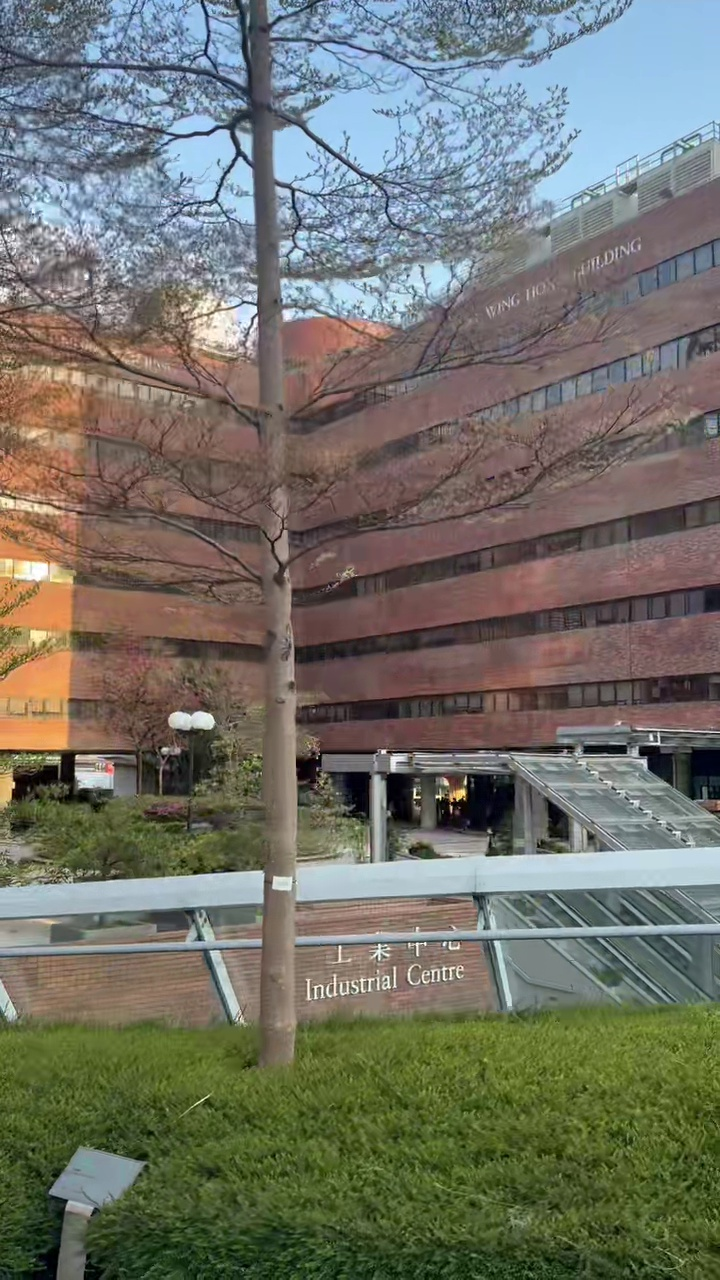Terminalia mantaly: (0, 0, 636, 1065)
